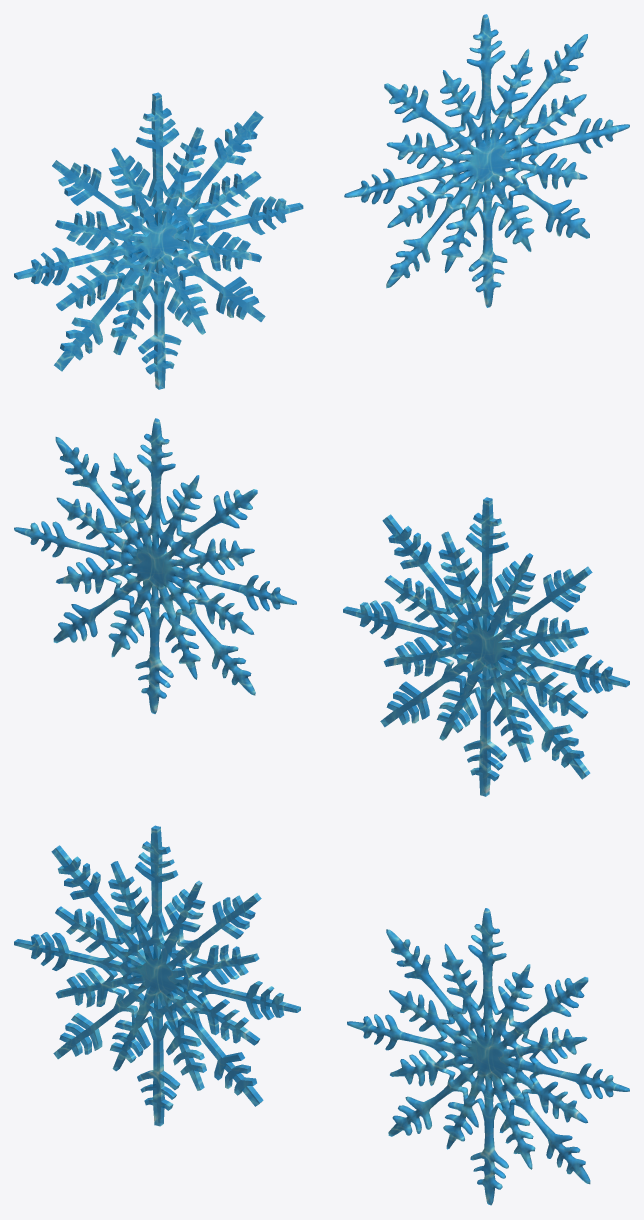
File: snowFlake.FBX
3 views of the same model, one above another, from view 1: azimuth 30°, elevation 25°; view 2: azimuth 150°, elevation 25°; view 3: azimuth 330°, elevation 25° (orthographic).
Parts seen in each view (by area): view 1: Line011, Line012; view 2: Line011, Line012; view 3: Line011, Line012.
Part boxes in pixels (x1,y1,x2,y2): Line011: (14,92,303,389); Line012: (344,14,629,307); Line011: (343,497,629,796); Line012: (14,418,296,713); Line011: (14,825,300,1126); Line012: (347,908,629,1205).
Bounding box in the file's own units: 47.43 × 21.8 × 0.8245.
Materials: 1 (1 with a texture image).
